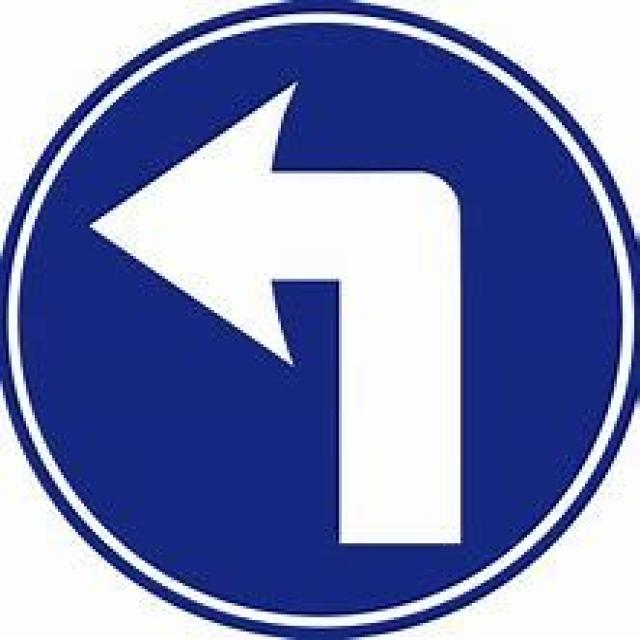left_turn: (0, 0, 637, 637)
